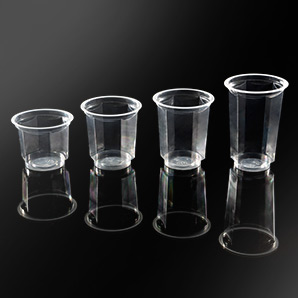plastic_glass: (220, 67, 292, 175), (149, 85, 219, 176), (76, 91, 145, 174), (9, 106, 74, 175)
